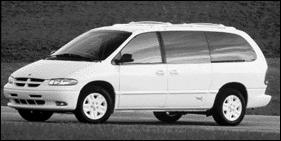car: (5, 21, 273, 126)
